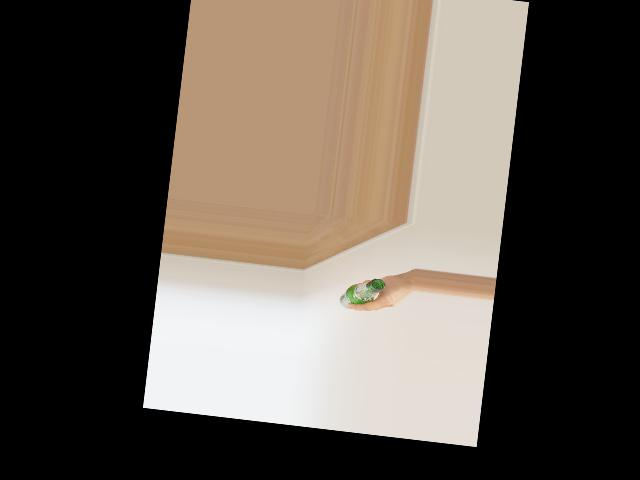beer: (339, 273, 386, 311)
